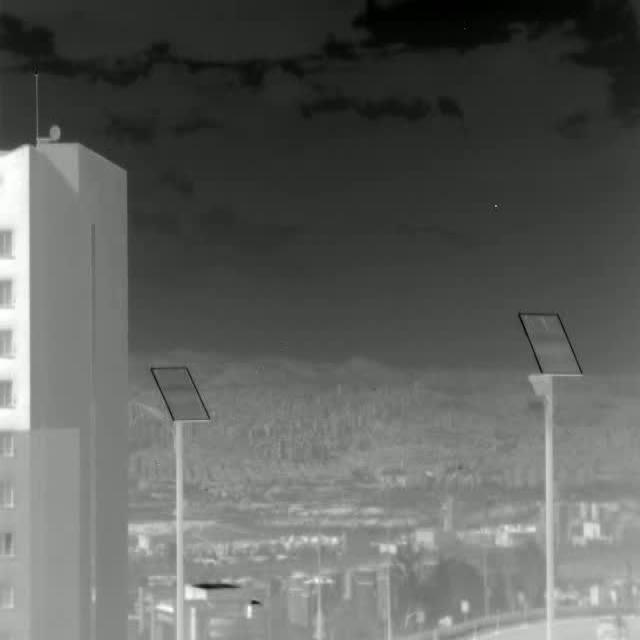Car: (597, 614, 628, 640)
